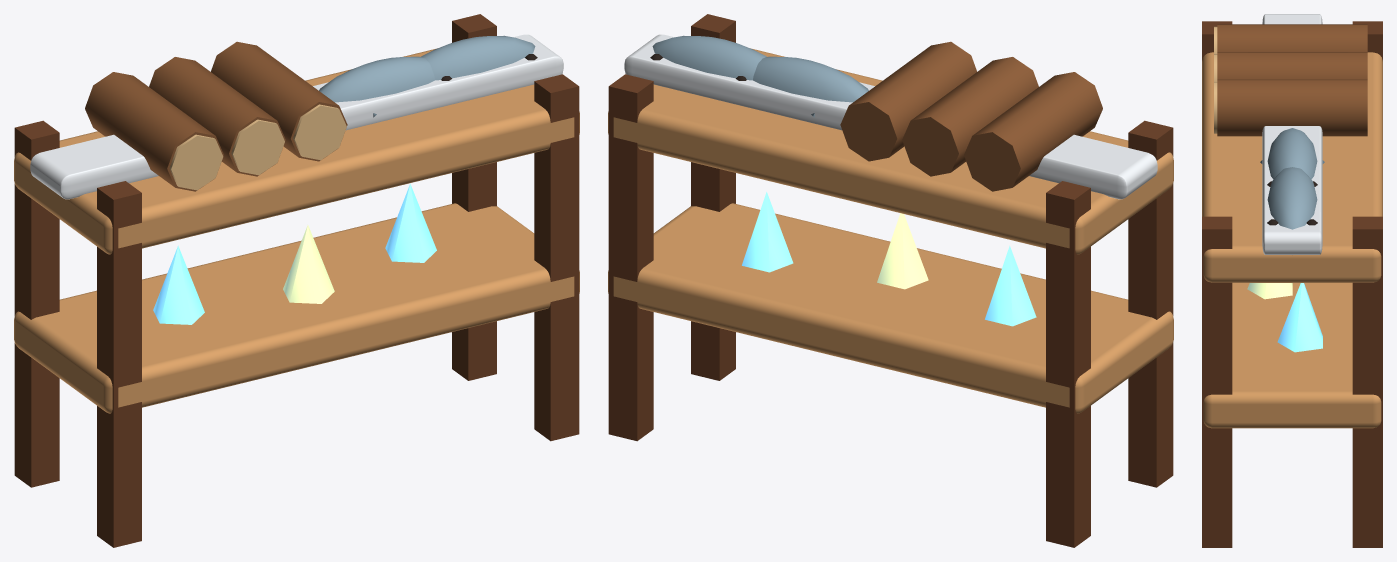
The model's file is market_stall.glb.
The picture shows the model from 3 angles, left to right: view 1: azimuth 30°, elevation 25°; view 2: azimuth 150°, elevation 25°; view 3: azimuth 270°, elevation 25°; orthographic projection. The views are drawn at different scales.
Parts seen in each view (by area): view 1: shelf, body (×2); view 2: shelf, body (×2); view 3: shelf, body (×2).
Part boxes in pixels (x1,y1,x2,y2): shelf: [14, 14, 579, 547]; body (×2): [319, 35, 537, 102]; shelf: [608, 14, 1173, 547]; body (×2): [650, 35, 868, 102]; shelf: [1202, 14, 1382, 547]; body (×2): [1267, 128, 1317, 229].
Bounding box in the file's own units: 1.06 × 0.78 × 0.36.
